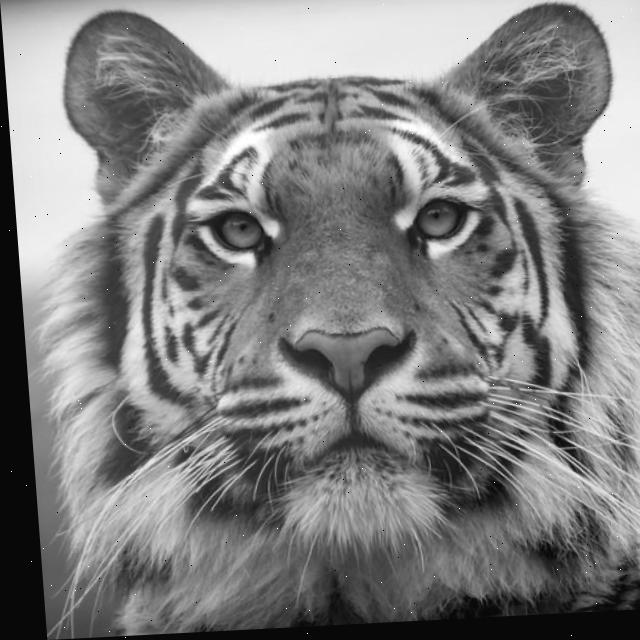Tiger: (1, 0, 640, 638)
